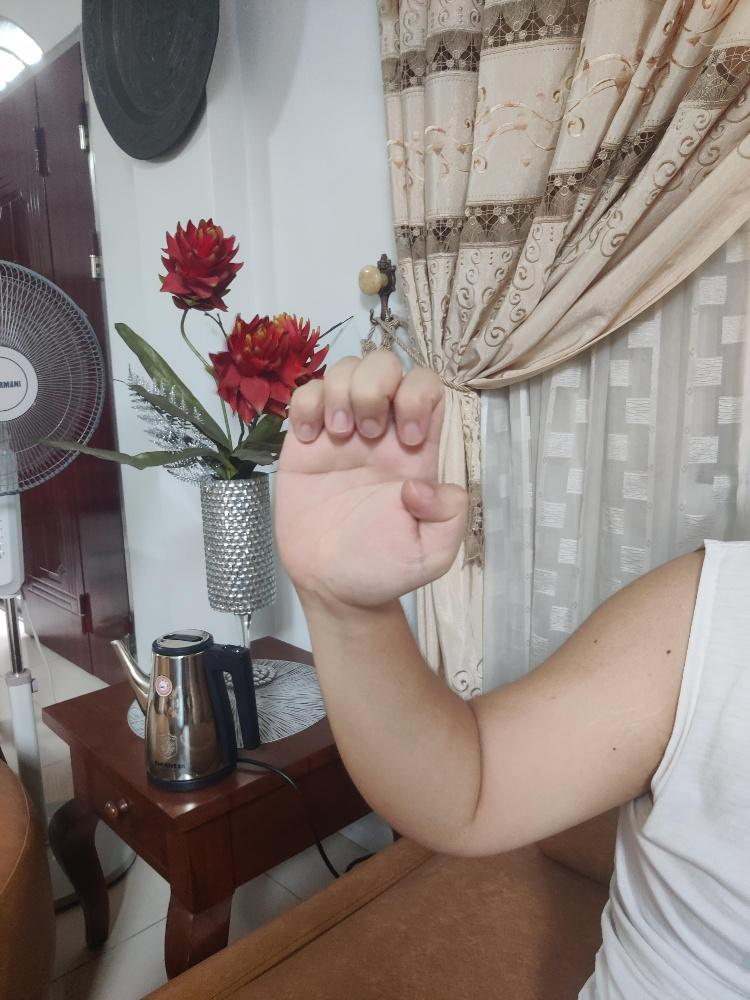e: (270, 348, 473, 608)
